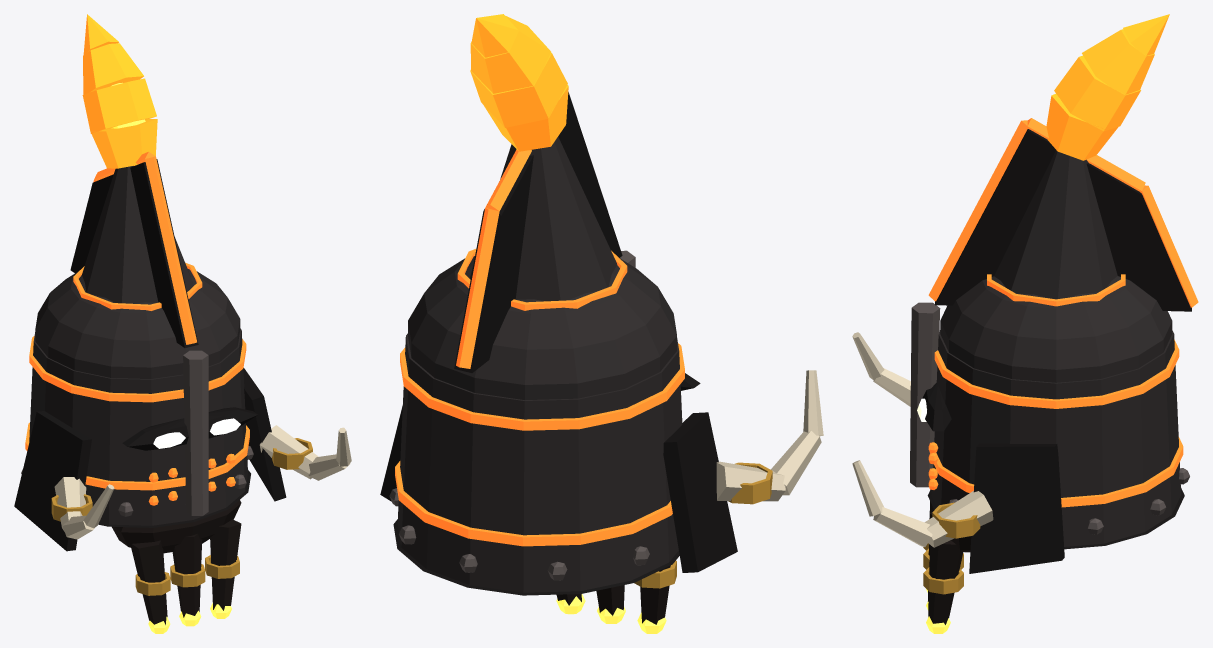
The model's file is hearth_guard_helm.glb.
The picture shows the model from 3 angles, left to right: view 1: azimuth 30°, elevation 25°; view 2: azimuth 150°, elevation 25°; view 3: azimuth 270°, elevation 25°; orthographic projection. The views are drawn at different scales.
Parts seen in each view (by area): view 1: hearth_guard_helm; view 2: hearth_guard_helm; view 3: hearth_guard_helm.
Boxes of the visible parts, left/top/right/bottom form: hearth_guard_helm: left=14, top=14, right=351, bottom=633; hearth_guard_helm: left=380, top=14, right=823, bottom=633; hearth_guard_helm: left=852, top=14, right=1198, bottom=633.
Bounding box in the file's own units: 0.964 × 1.86 × 0.9697.
